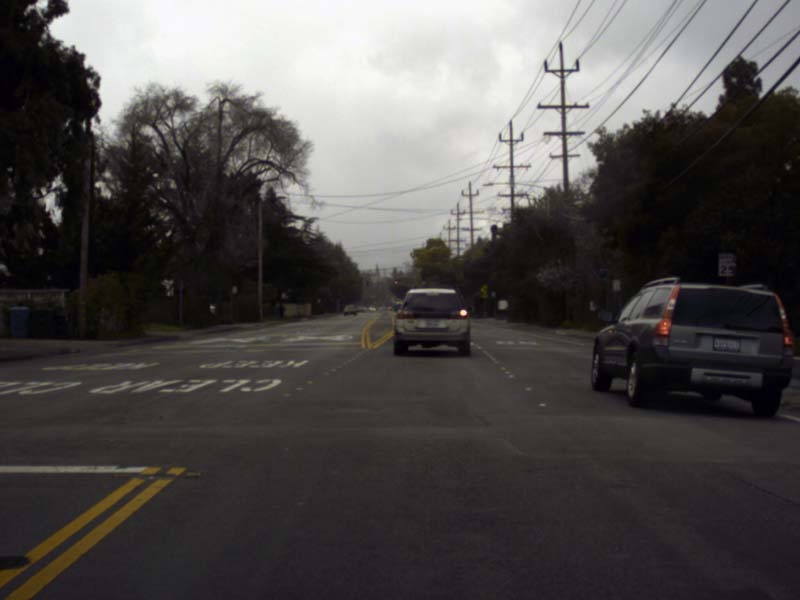Red: (394, 278, 399, 290)
